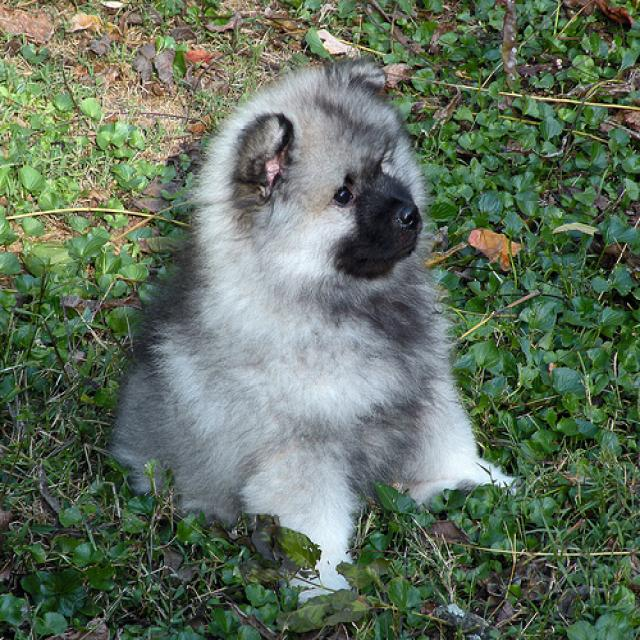dog-keeshond: (99, 47, 529, 608)
